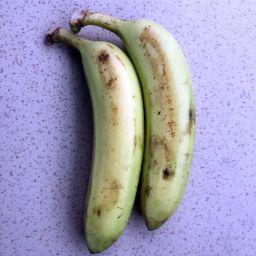banana: (69, 8, 200, 234), (44, 26, 148, 256)
